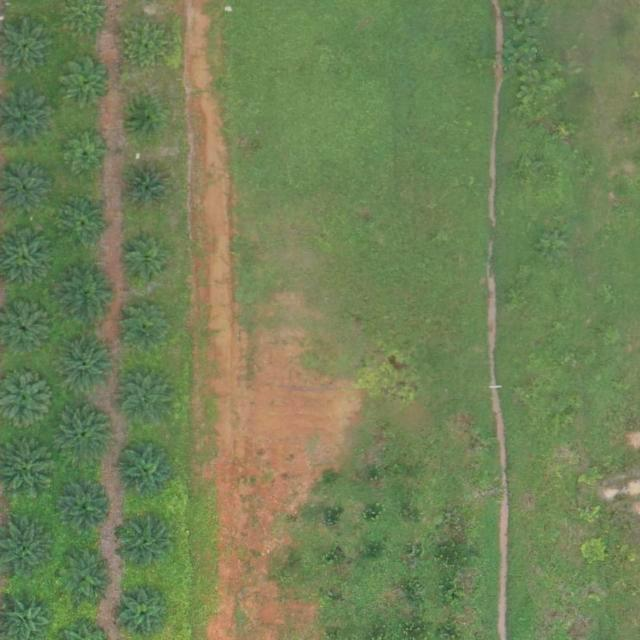Kelapa_Sawit: (57, 333, 119, 396), (52, 403, 114, 466), (114, 439, 176, 502), (54, 264, 116, 326), (118, 236, 173, 291), (58, 196, 113, 251), (56, 480, 111, 535), (119, 515, 174, 570), (56, 54, 110, 109), (120, 161, 174, 216), (58, 550, 112, 605), (118, 299, 172, 354), (118, 371, 172, 426), (63, 132, 109, 178), (121, 21, 167, 67), (124, 98, 163, 137)
